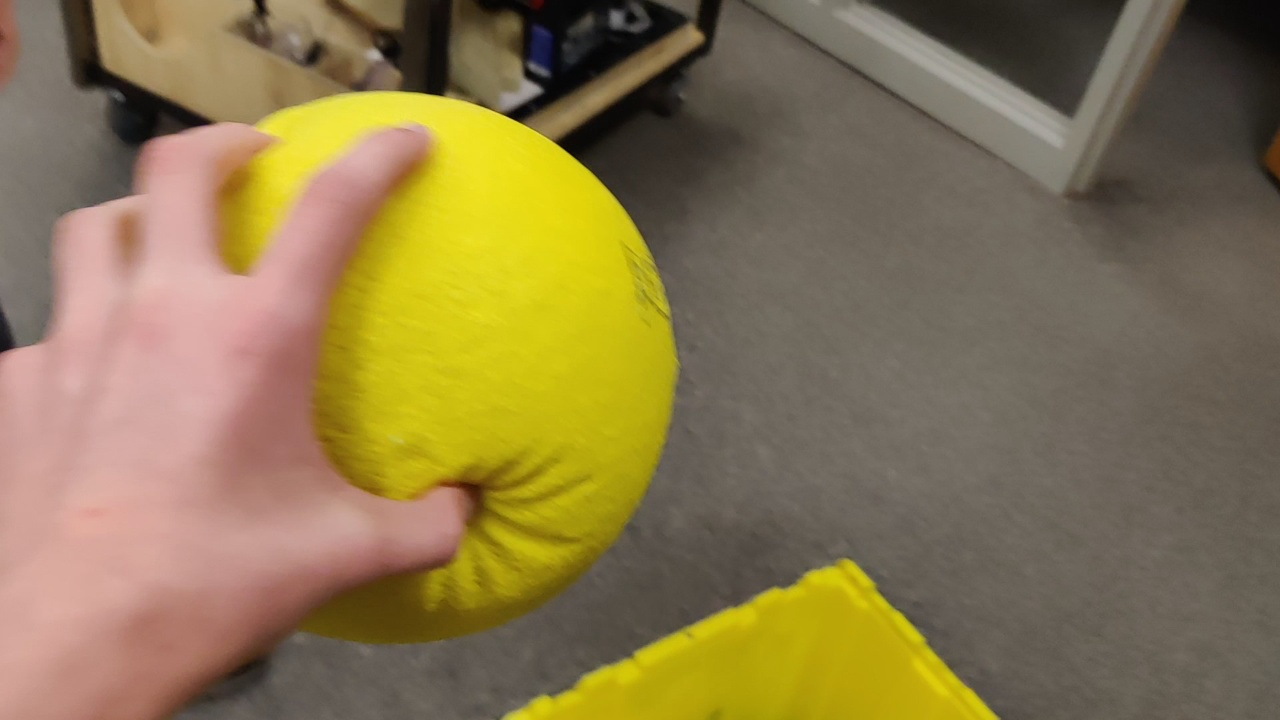Ball: (308, 91, 682, 631)
